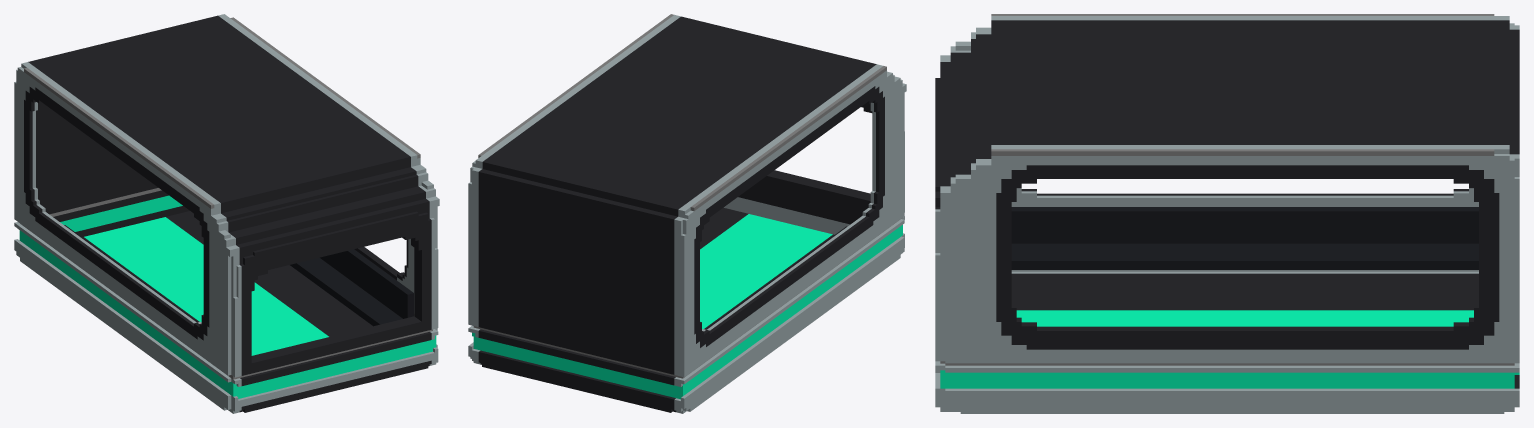
The model's file is Monorail_001-1.obj.
The picture shows the model from 3 angles, left to right: view 1: azimuth 30°, elevation 25°; view 2: azimuth 150°, elevation 25°; view 3: azimuth 270°, elevation 25°; orthographic projection. The views are drawn at different scales.
Size of the model in its own units: 6.4 by 5.7 by 11.5.
Materials: 1 (1 with a texture image).
